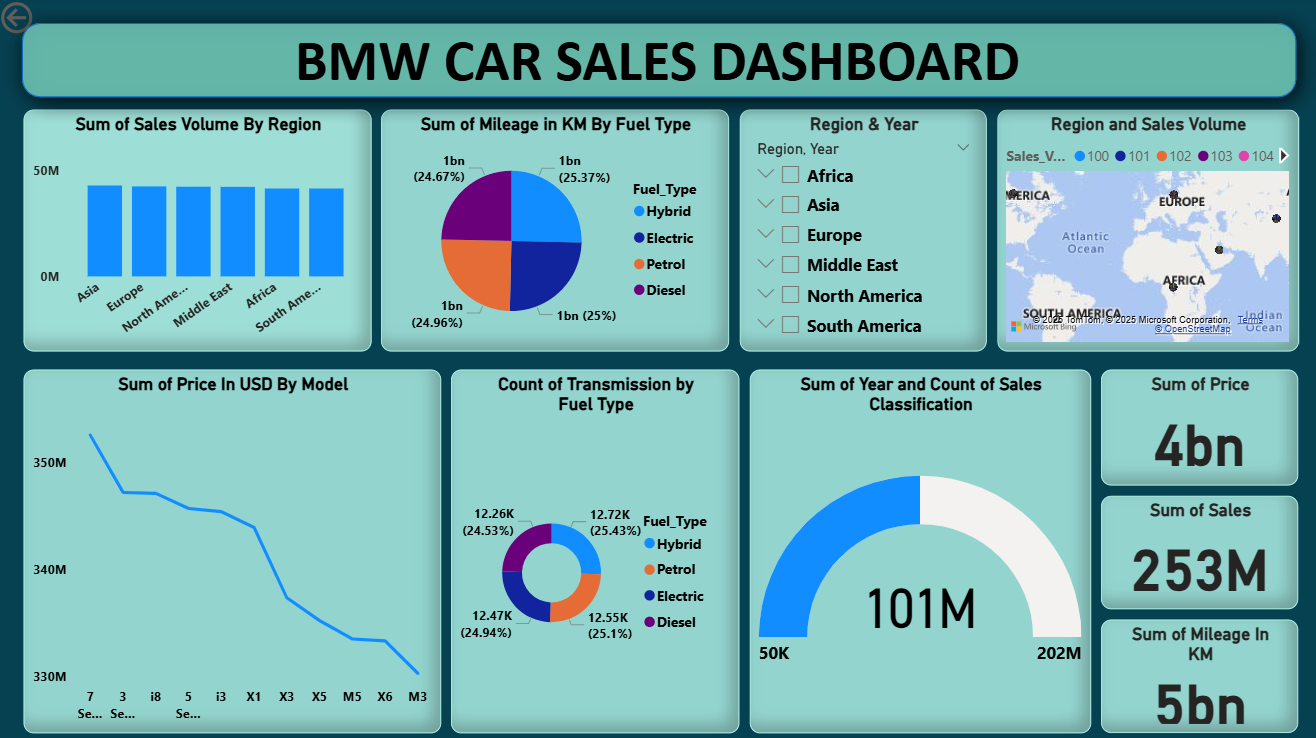

The page's visual inventory and layout, read from the dashboard file:
{"tool":"powerbi","page":{"name":"Page 1","canvas":[1280,720],"ordinal":0},"visuals":[{"type":"slicer","title":"Region & Year","fields":{"Values":["BMW.Region","BMW.Year"]},"box":[717.7,108.4,238.8,233.3],"z":0},{"type":"columnChart","title":"Sum of Sales Volume By Region","fields":{"Category":["BMW.Region"],"Y":["Sum(BMW.Sales_Volume)"]},"box":[26.1,108.4,336.2,233.3],"z":1000},{"type":"pieChart","title":"Sum of Mileage in KM By Fuel Type","fields":{"Y":["Sum(BMW.Mileage_KM)"],"Category":["BMW.Fuel_Type"]},"box":[371.9,108.4,336.2,233.3],"z":2000},{"type":"map","title":"Region and Sales Volume","fields":{"Category":["BMW.Region"],"Series":["BMW.Sales_Volume"]},"box":[966,108.4,290.9,233.3],"z":3000},{"type":"card","title":"Sum of Price","fields":{"Values":["Sum(BMW.Price_USD)"]},"box":[1066.5,359.5,190.6,112.2],"z":4000},{"type":"card","title":"Sum of Sales","fields":{"Values":["Sum(BMW.Sales_Volume)"]},"box":[1066.2,481.6,190.7,109.8],"z":5000},{"type":"card","title":"Sum of Mileage In KM","fields":{"Values":["Sum(BMW.Mileage_KM)"]},"box":[1066.2,601,190.7,109.8],"z":6000},{"type":"actionButton","box":[0,0,100,40],"z":7000},{"type":"shape","box":[0,0,1280,121.9],"z":8000},{"type":"lineChart","title":"Sum of Price In USD By Model","fields":{"Category":["BMW.Model"],"Y":["Sum(BMW.Price_USD)"]},"box":[26.1,359.5,403.4,351.3],"z":9000},{"type":"donutChart","title":"Count of Transmission by Fuel Type","fields":{"Category":["BMW.Fuel_Type"],"Y":["CountNonNull(BMW.Transmission)"]},"box":[439.1,359.5,278.6,351.3],"z":10000},{"type":"gauge","fields":{"Y":["Sum(BMW.Year)"],"MinValue":["CountNonNull(BMW.Sales_Classification)"]},"box":[727.3,359.5,329.3,351.3],"z":11000},{"type":"textbox","box":[283.8,21.2,711.2,82.5],"z":12000}]}

Visuals, with their boxes in screenshot pixels (x1, y1, x2, y2), scaled from the page's 1280x720 canvas onto the 1316x738 screenshot:
"Region & Year" slicer: {"x1": 738, "y1": 111, "x2": 983, "y2": 350}
"Sum of Sales Volume By Region" columnChart: {"x1": 27, "y1": 111, "x2": 372, "y2": 350}
"Sum of Mileage in KM By Fuel Type" pieChart: {"x1": 382, "y1": 111, "x2": 728, "y2": 350}
"Region and Sales Volume" map: {"x1": 993, "y1": 111, "x2": 1292, "y2": 350}
"Sum of Price" card: {"x1": 1096, "y1": 368, "x2": 1292, "y2": 483}
"Sum of Sales" card: {"x1": 1096, "y1": 494, "x2": 1292, "y2": 606}
"Sum of Mileage In KM" card: {"x1": 1096, "y1": 616, "x2": 1292, "y2": 729}
actionButton: {"x1": 0, "y1": 0, "x2": 103, "y2": 41}
shape: {"x1": 0, "y1": 0, "x2": 1315, "y2": 125}
"Sum of Price In USD By Model" lineChart: {"x1": 27, "y1": 368, "x2": 442, "y2": 729}
"Count of Transmission by Fuel Type" donutChart: {"x1": 451, "y1": 368, "x2": 738, "y2": 729}
gauge - Sum(BMW.Year) x CountNonNull(BMW.Sales_Classification): {"x1": 748, "y1": 368, "x2": 1086, "y2": 729}
textbox: {"x1": 292, "y1": 22, "x2": 1023, "y2": 106}
